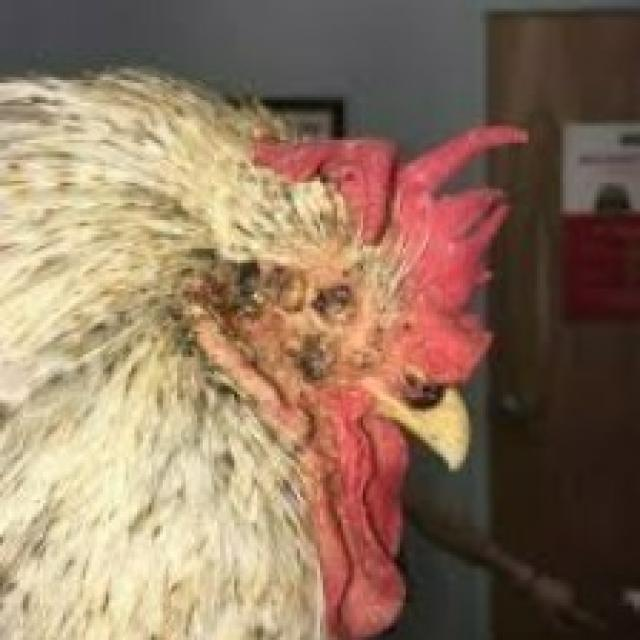Fowlpox: (159, 119, 459, 469)
